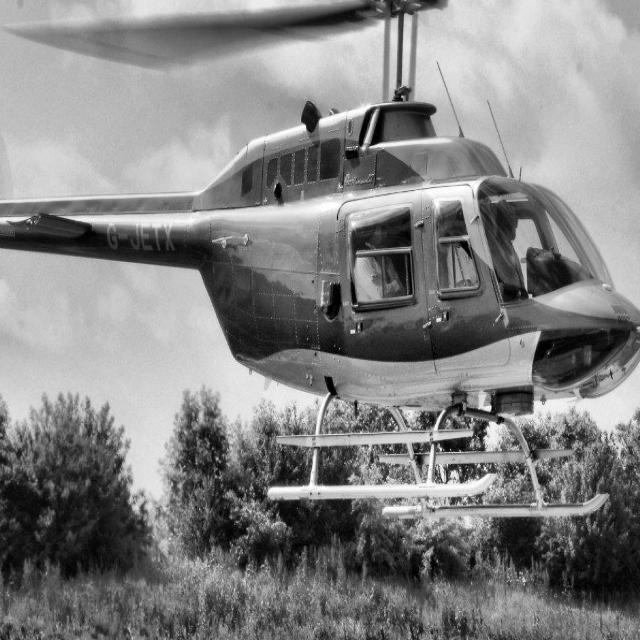helicopter: (1, 1, 640, 530)
